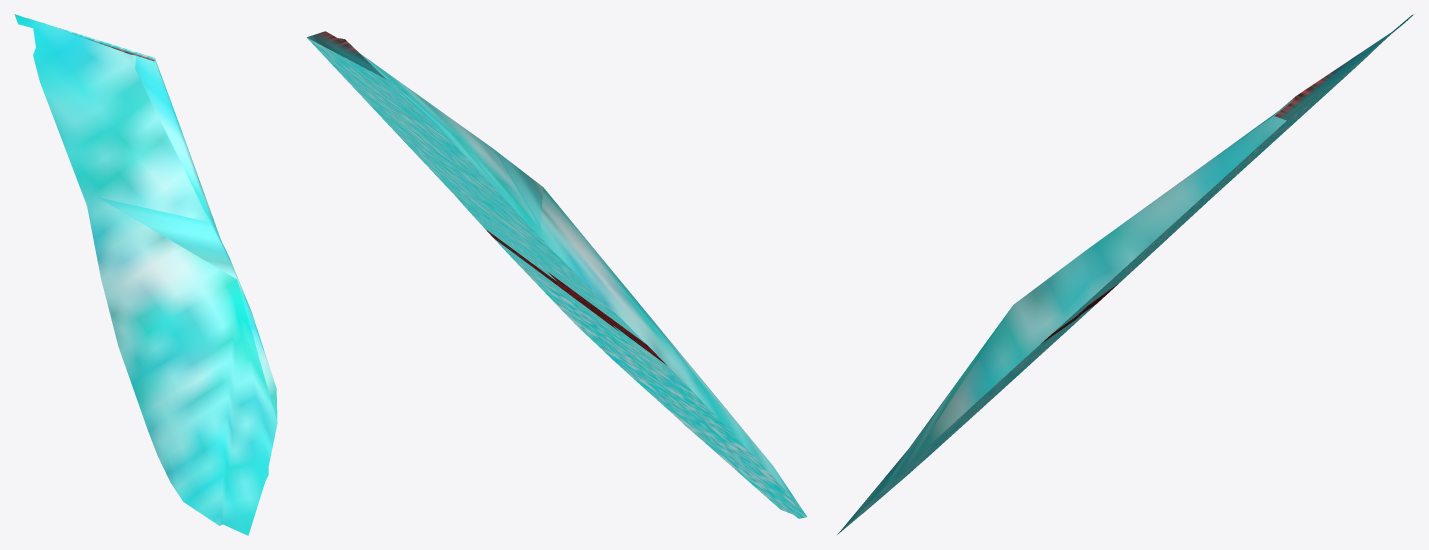
The picture shows the model from 3 angles, left to right: view 1: azimuth 30°, elevation 25°; view 2: azimuth 150°, elevation 25°; view 3: azimuth 270°, elevation 25°; orthographic projection. The views are drawn at different scales.
Parts seen in each view (by area): view 1: SM_VFX_Withered_Spike_10_LOD0; view 2: SM_VFX_Withered_Spike_10_LOD0; view 3: SM_VFX_Withered_Spike_10_LOD0.
Part boxes in pixels (x1,y1,x2,y2): SM_VFX_Withered_Spike_10_LOD0: (14, 14, 277, 535); SM_VFX_Withered_Spike_10_LOD0: (307, 31, 807, 518); SM_VFX_Withered_Spike_10_LOD0: (837, 14, 1413, 534).
Bounding box in the file's own units: 0.6303 × 1.92 × 1.98.
Materials: 1 (1 with a texture image).
